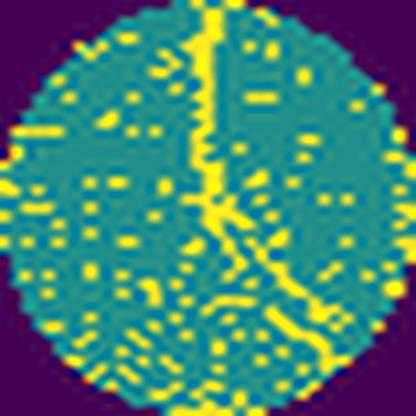Scratch: (172, 0, 260, 284), (246, 223, 354, 335), (260, 302, 348, 375)
